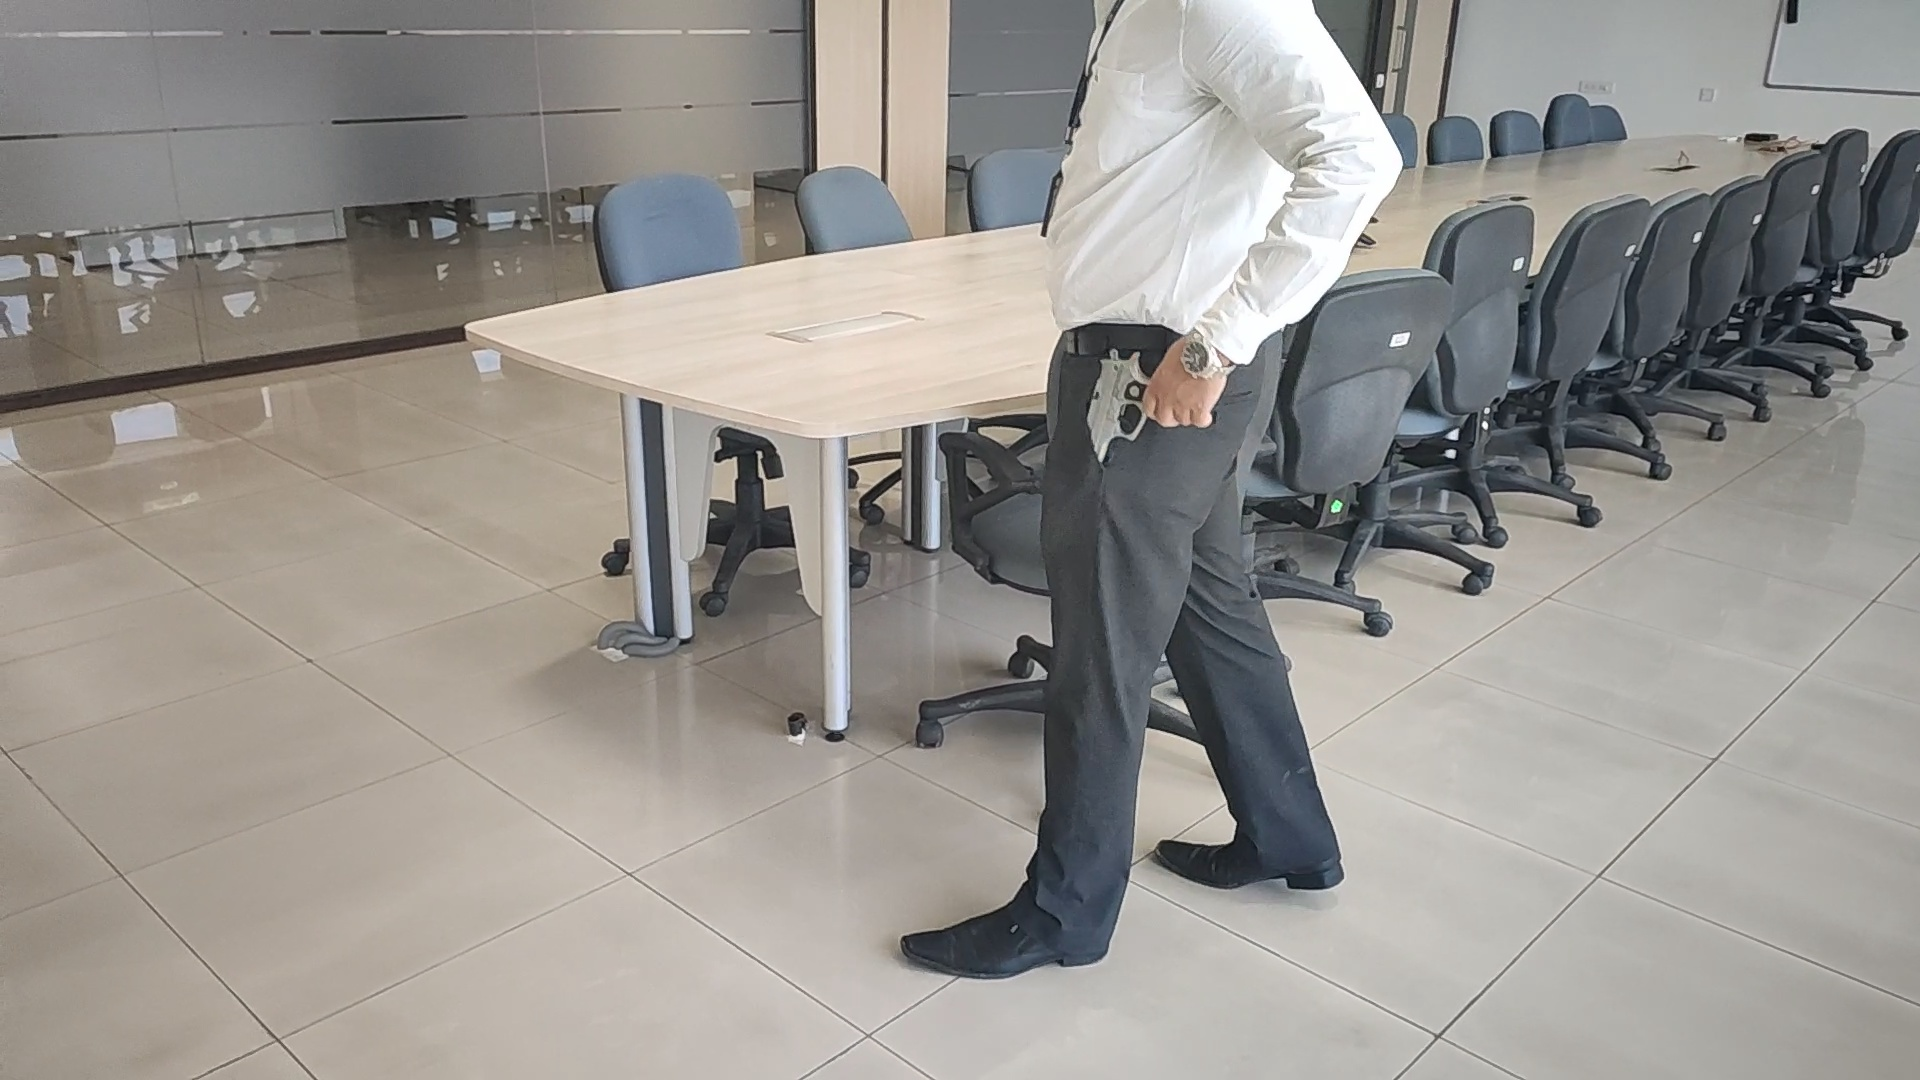gun: (1085, 347, 1145, 463)
